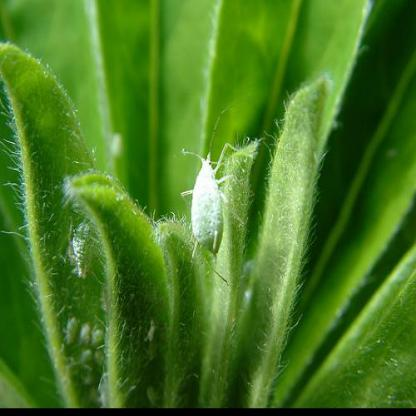aphid: (175, 124, 252, 272), (62, 310, 80, 350), (75, 320, 93, 352), (93, 325, 109, 356), (82, 352, 104, 374)
